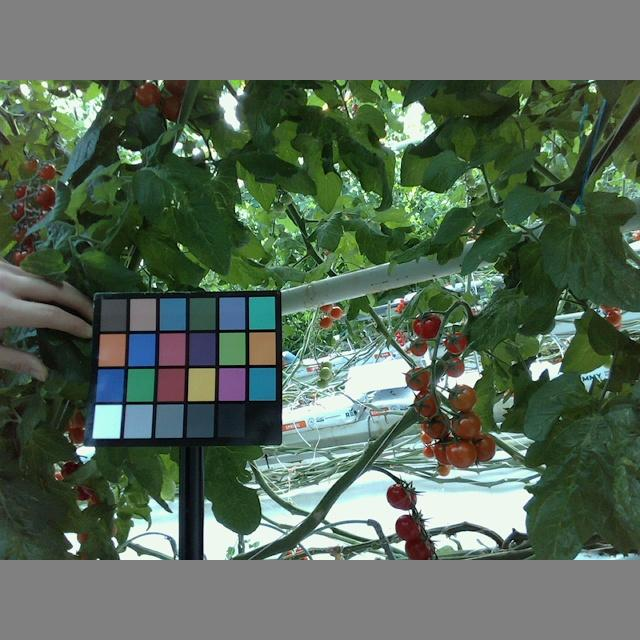pink: (444, 437, 476, 469), (448, 381, 477, 411), (450, 413, 482, 440), (401, 364, 428, 391), (410, 392, 442, 414), (423, 415, 450, 440), (441, 355, 463, 376), (409, 337, 428, 354)
red: (407, 310, 442, 340), (386, 481, 415, 508), (394, 514, 421, 540), (443, 332, 468, 354)
